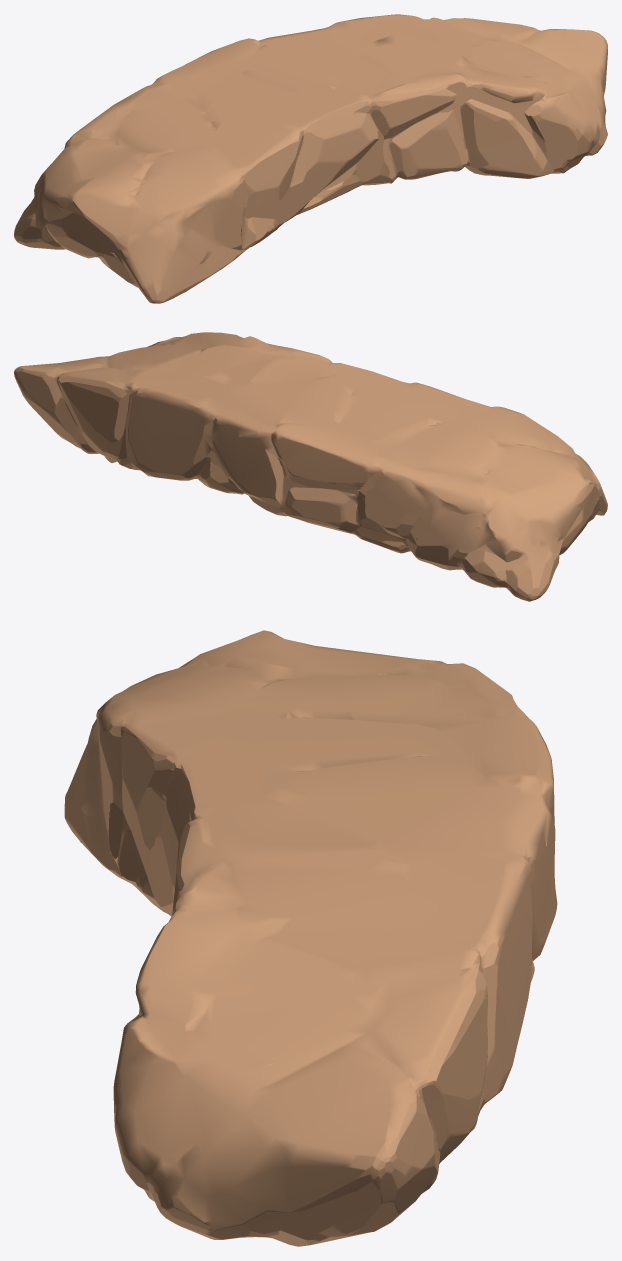
The picture shows the model from 3 angles, top to bottom: view 1: azimuth 30°, elevation 25°; view 2: azimuth 150°, elevation 25°; view 3: azimuth 270°, elevation 25°; orthographic projection. The views are drawn at different scales.
Visible parts, largest first — view 1: Mesh_50_LOD0; view 2: Mesh_50_LOD0; view 3: Mesh_50_LOD0.
Boxes of the visible parts, x1=… form: Mesh_50_LOD0: x1=14, y1=14, x2=607, y2=303; Mesh_50_LOD0: x1=14, y1=332, x2=607, y2=601; Mesh_50_LOD0: x1=64, y1=630, x2=557, y2=1246.
Size of what is drawn, in the model's own units: 6812 by 1537 by 2646.
